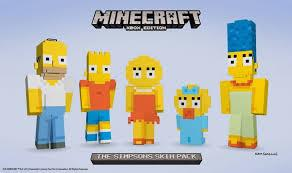Bart: (77, 49, 120, 147)
Homer: (22, 37, 79, 151)
Lisa: (122, 54, 168, 146)
Maggie: (173, 86, 214, 147)
Marge: (222, 17, 270, 156)
